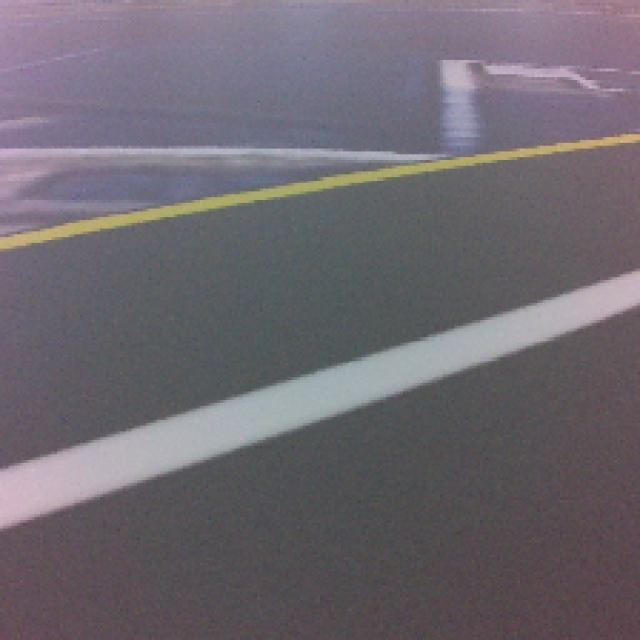Guard rail: (0, 270, 640, 532)
